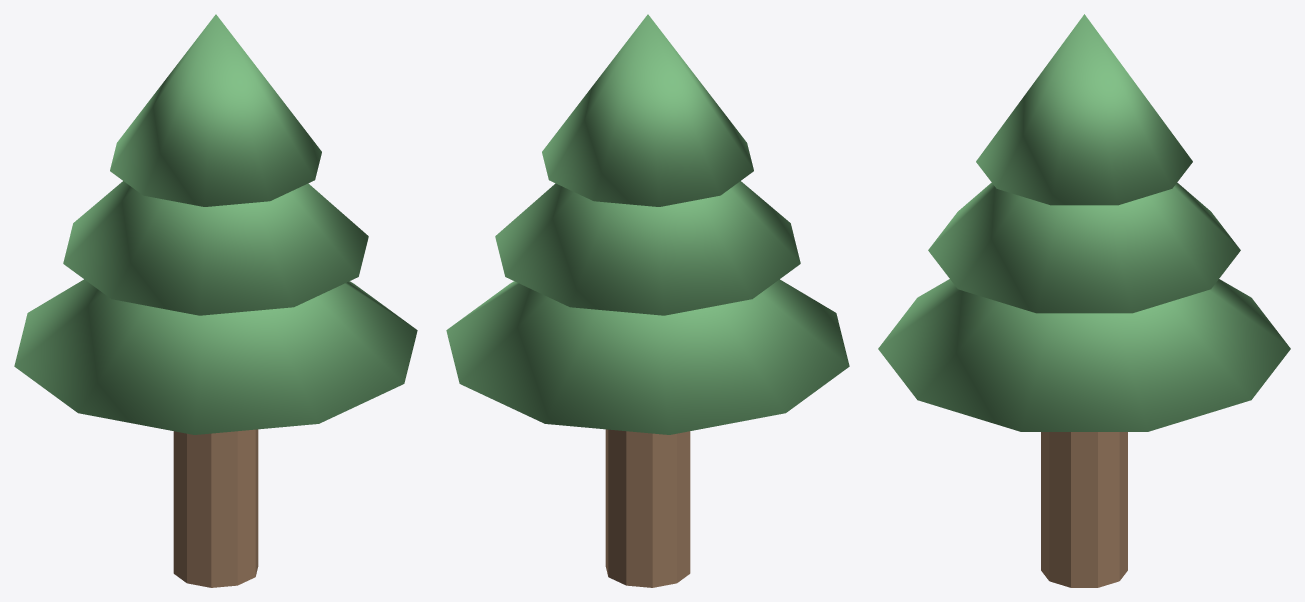
The model's file is tree.glb.
3 views of the same model, side by side, from view 1: azimuth 30°, elevation 25°; view 2: azimuth 150°, elevation 25°; view 3: azimuth 270°, elevation 25° (orthographic).
Parts seen in each view (by area): view 1: Tree; view 2: Tree; view 3: Tree.
Boxes of the visible parts, <box> form: Tree: <box>14,14,417,587</box>; Tree: <box>446,14,849,587</box>; Tree: <box>878,14,1290,587</box>.
Bounding box in the file's own units: 1.81 × 2.83 × 1.9.
